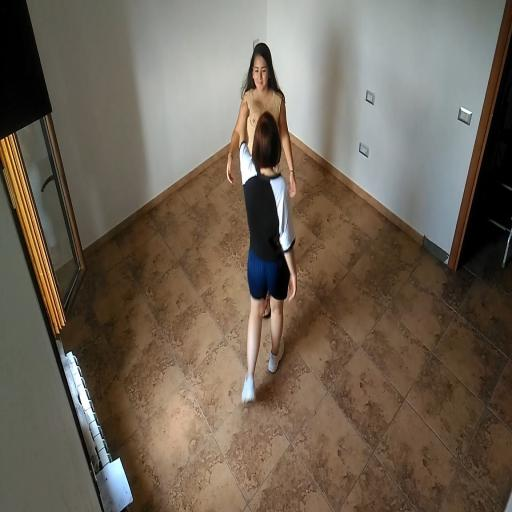nao-violencia: (220, 32, 310, 422)
